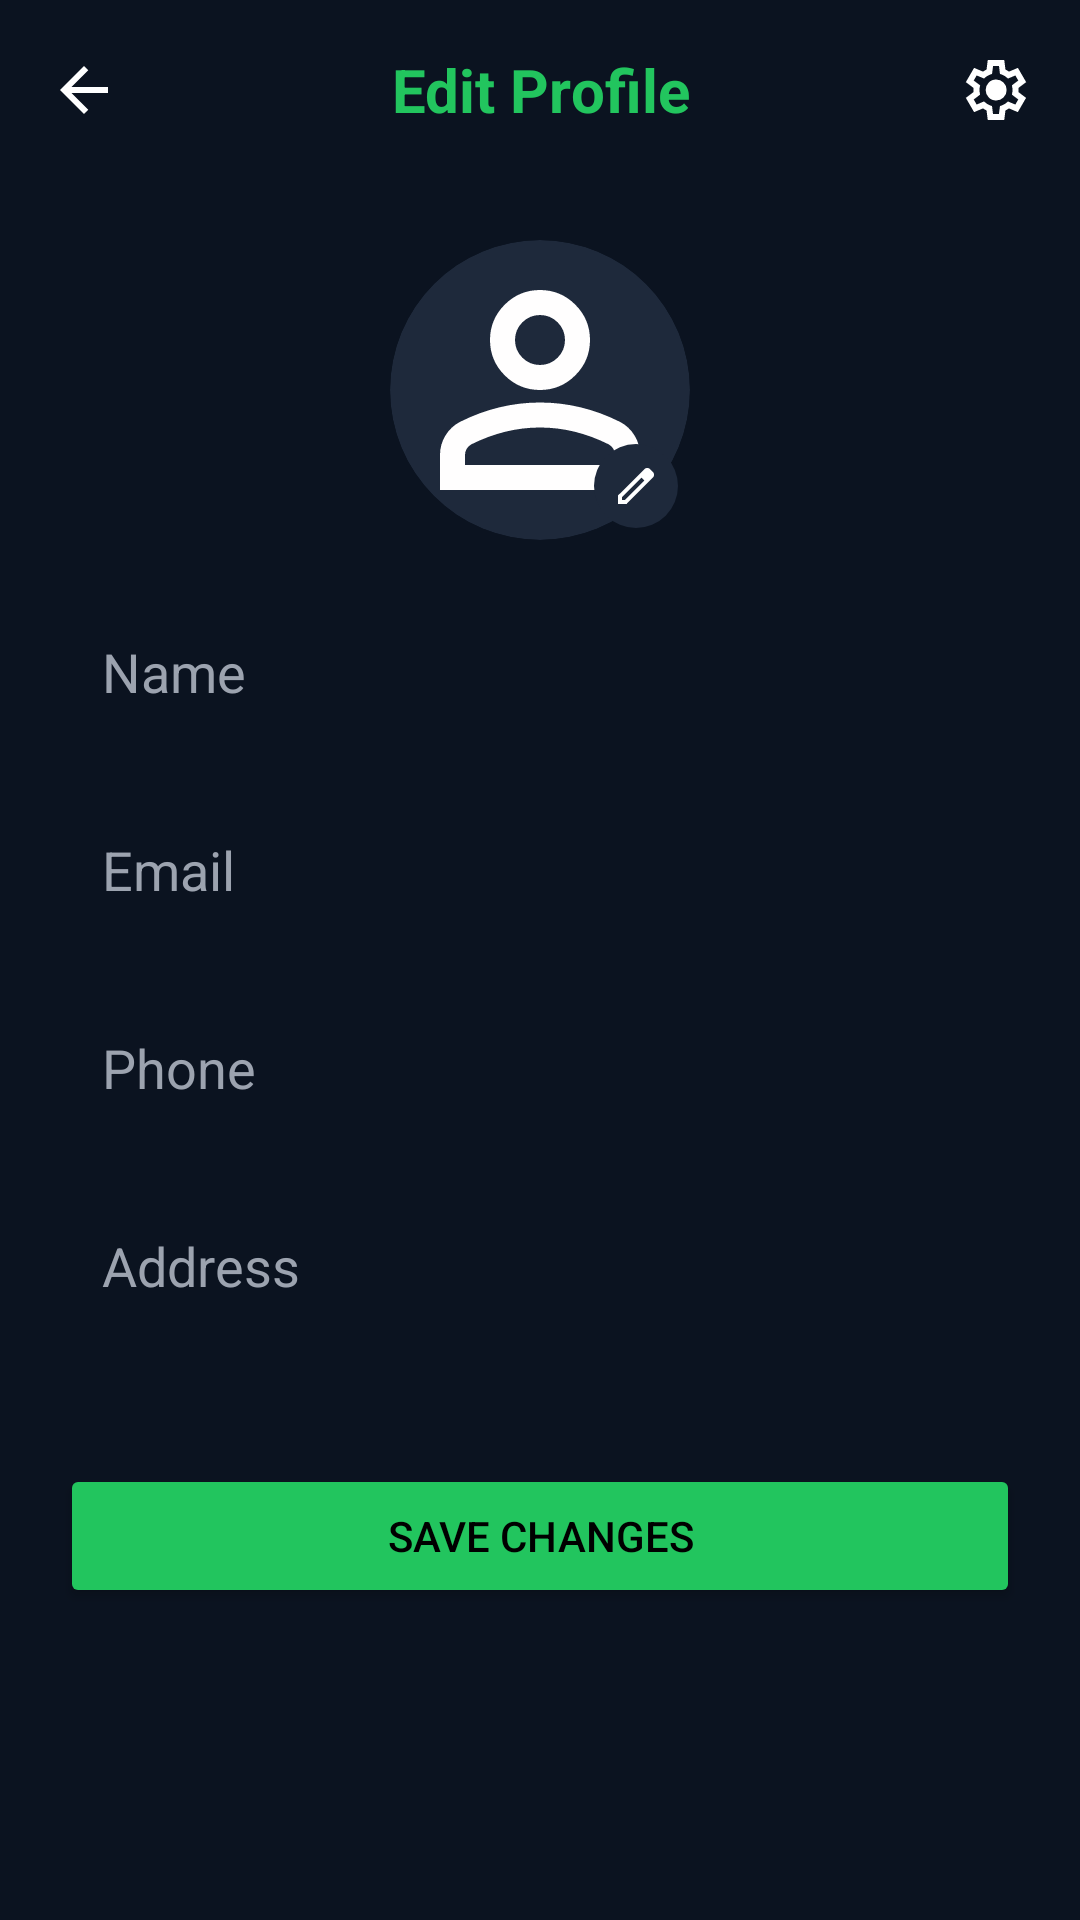

Screen size 1080px×1920px. Icon name, then its box in pixels as (x1, y1, x2, y2):
back: (60, 66, 108, 114)
settings: (966, 60, 1026, 120)
